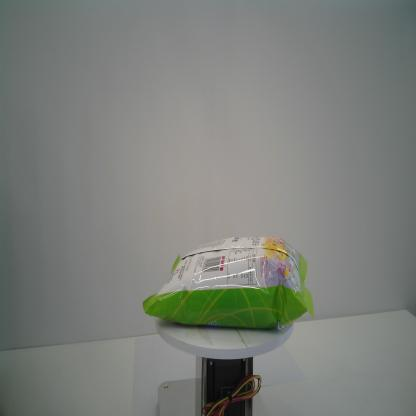Puffed Food: (142, 235, 314, 332)
